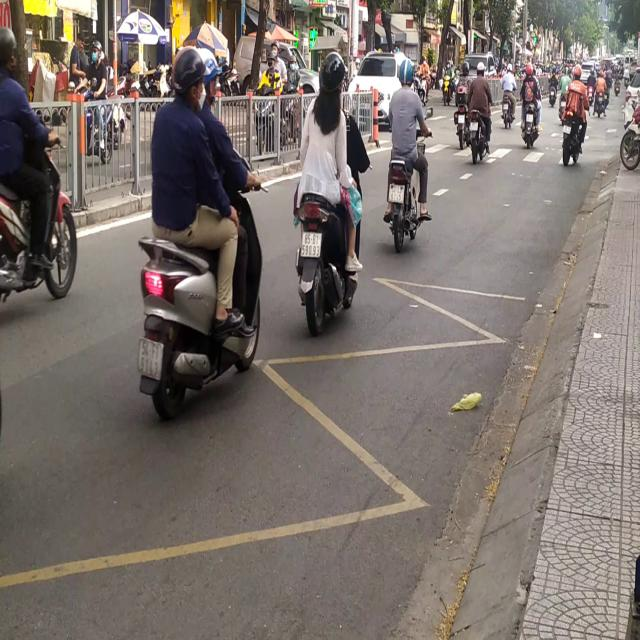bien_trang: (136, 338, 163, 378), (300, 232, 320, 260), (389, 180, 404, 204)
